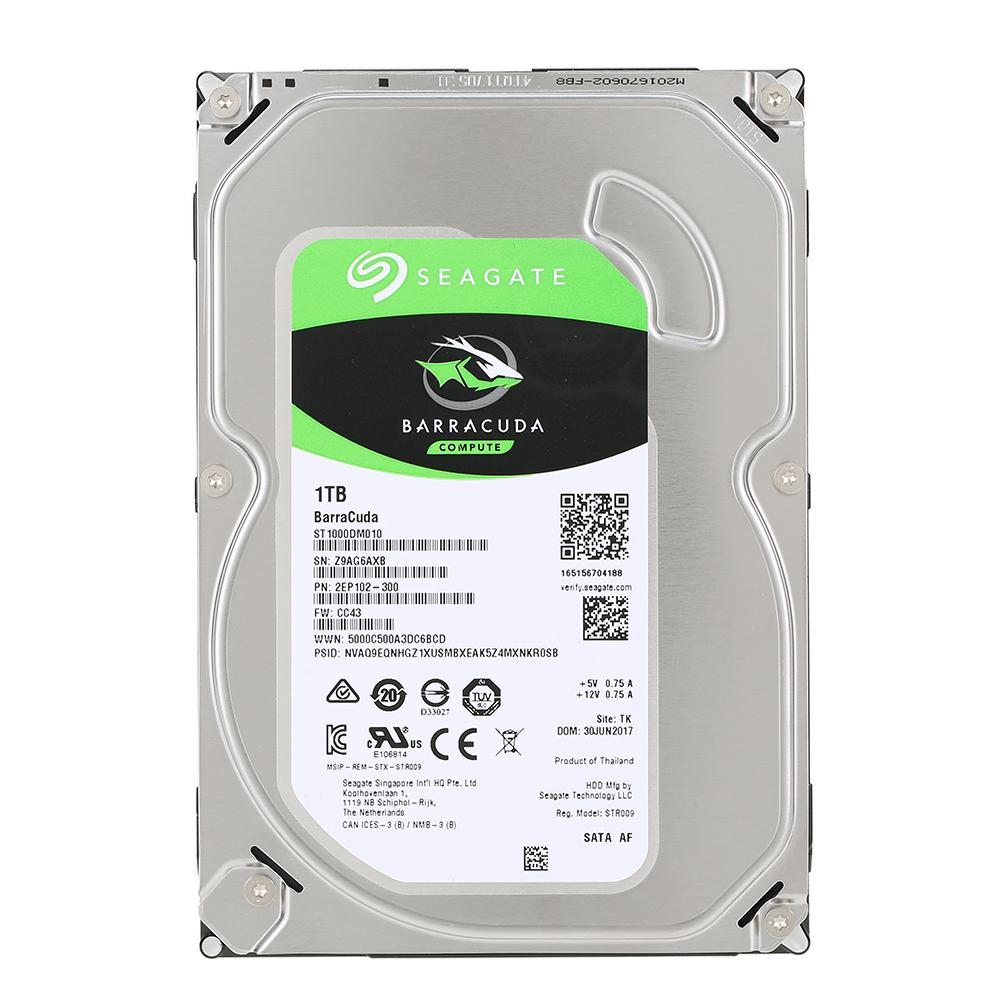internal HDD: (190, 65, 818, 963)
